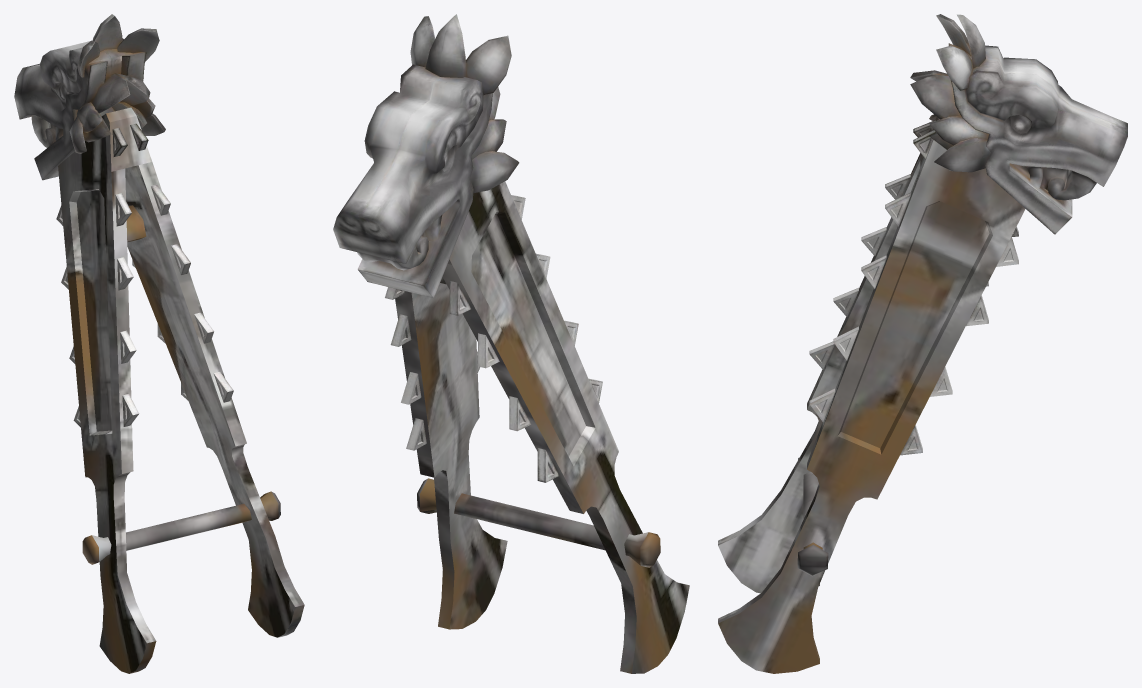
File: weapon-ironweapons.glb
3 views of the same model, side by side, from view 1: azimuth 30°, elevation 25°; view 2: azimuth 150°, elevation 25°; view 3: azimuth 270°, elevation 25° (orthographic). The views are drawn at different scales.
Bounding box in the file's own units: 1.83 × 5.36 × 3.22.
1 material, 1 textured.
